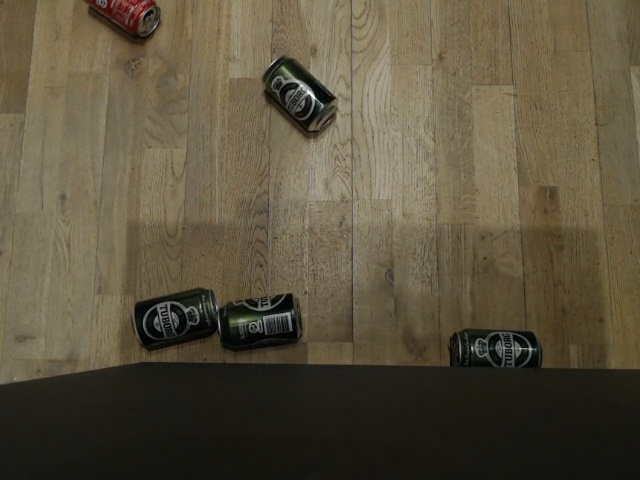beer: (259, 53, 340, 134), (129, 282, 217, 353), (218, 289, 307, 351), (444, 322, 542, 369)
cola: (82, 0, 165, 43)
